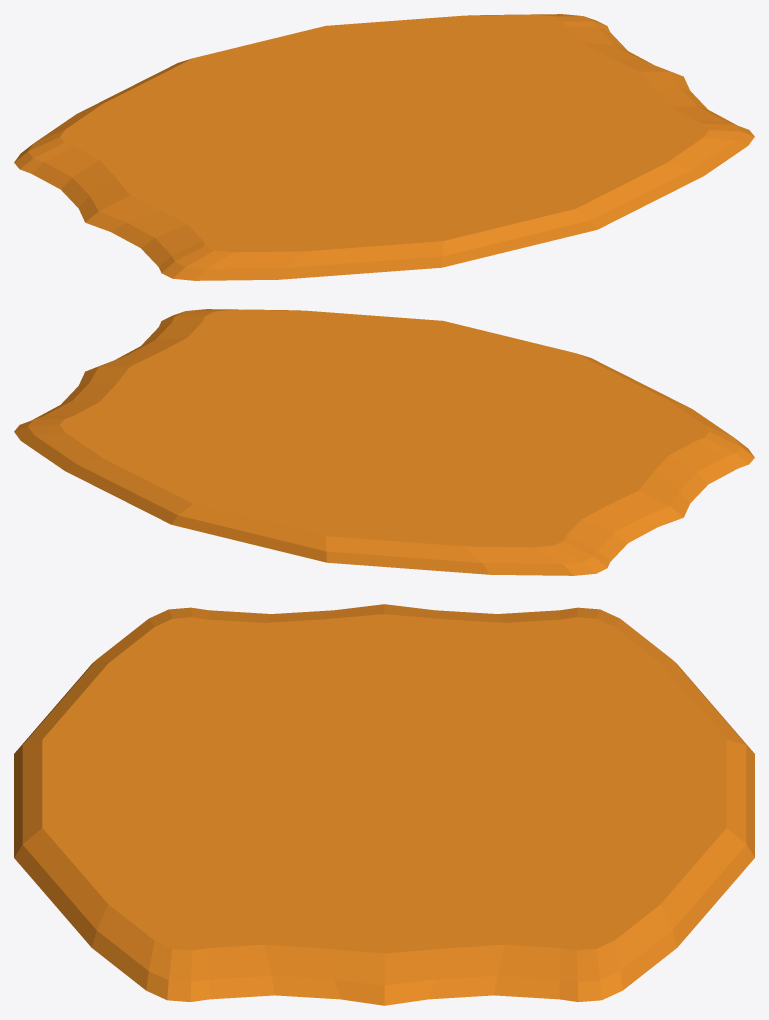
File: Last_Resort_Door_Base.fbx
3 renders of one model, top to bottom at view 1: azimuth 30°, elevation 25°; view 2: azimuth 150°, elevation 25°; view 3: azimuth 270°, elevation 25°, orthographic. The views are drawn at different scales.
Parts seen in each view (by area): view 1: Cube.509; view 2: Cube.509; view 3: Cube.509.
Boxes of the visible parts, x1,y1,x2,y2 form: Cube.509: [14, 14, 754, 280]; Cube.509: [14, 309, 754, 575]; Cube.509: [14, 604, 754, 1005].
Bounding box in the file's own units: 526 × 13.57 × 412.
